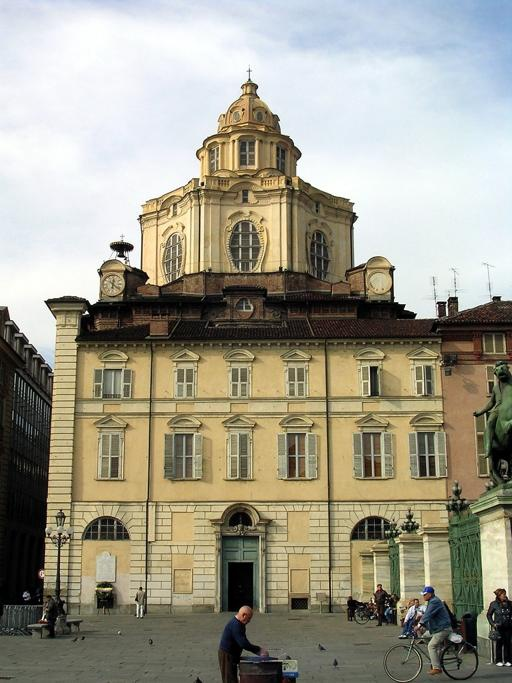non-vehicle: (383, 618, 478, 683), (354, 596, 377, 624)
